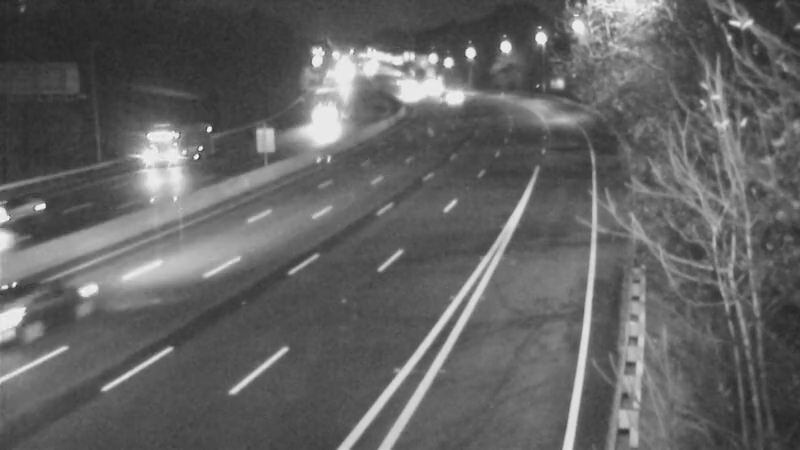vehicle: (1, 261, 91, 371), (125, 120, 205, 200), (1, 174, 77, 254), (385, 69, 435, 119), (424, 68, 474, 118), (294, 90, 344, 140)
